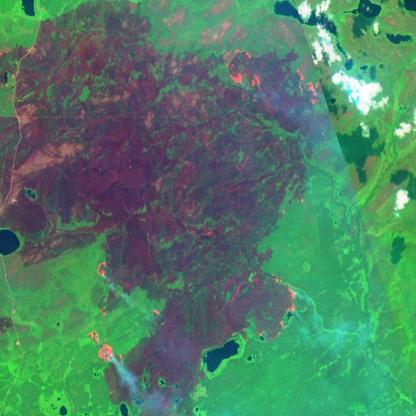fire: (219, 46, 323, 110), (248, 267, 302, 349), (82, 326, 131, 379), (90, 253, 122, 319), (278, 188, 311, 224), (145, 304, 162, 340)
